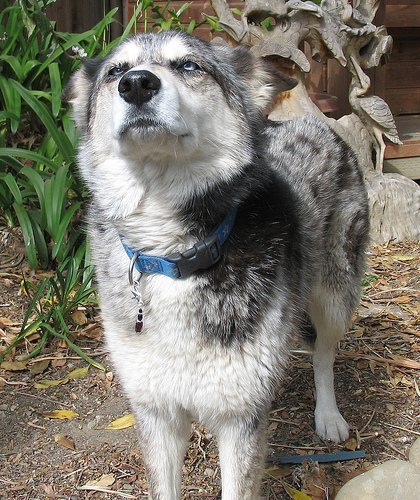dog: (56, 26, 375, 498)
